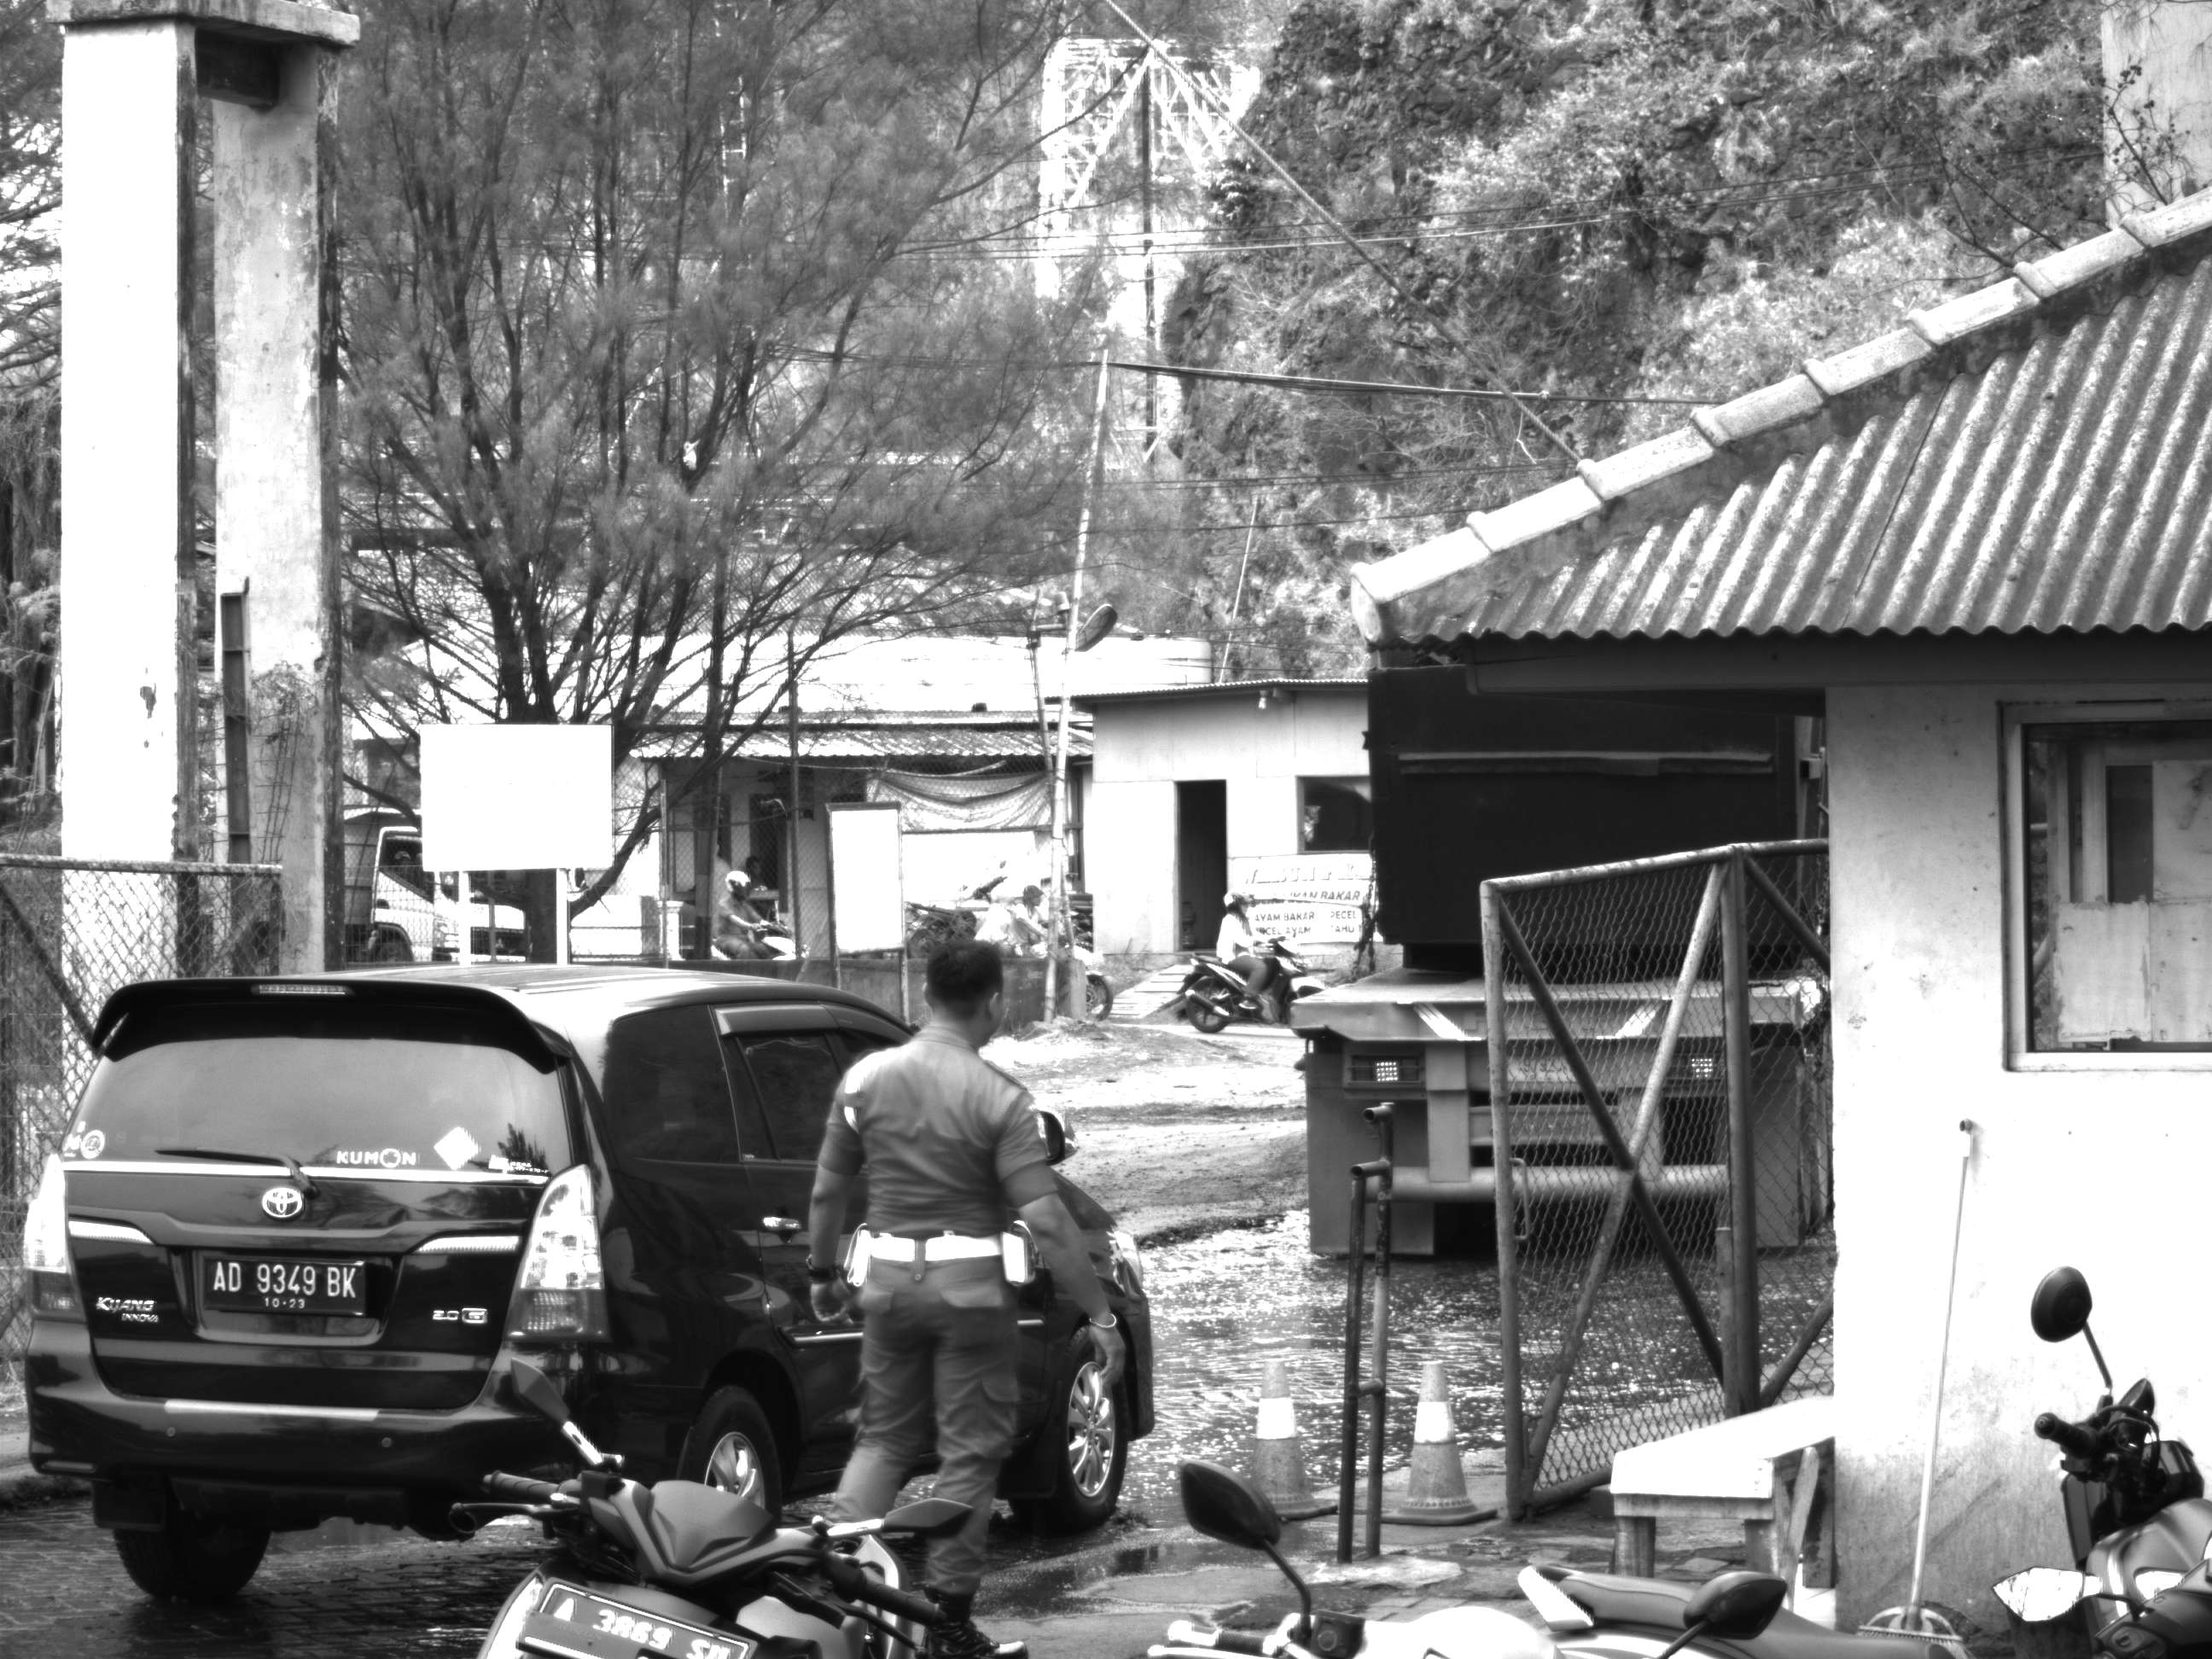day_small_rear: (24, 958, 807, 1588)
plate: (538, 1579, 770, 1659), (198, 1254, 369, 1321)
